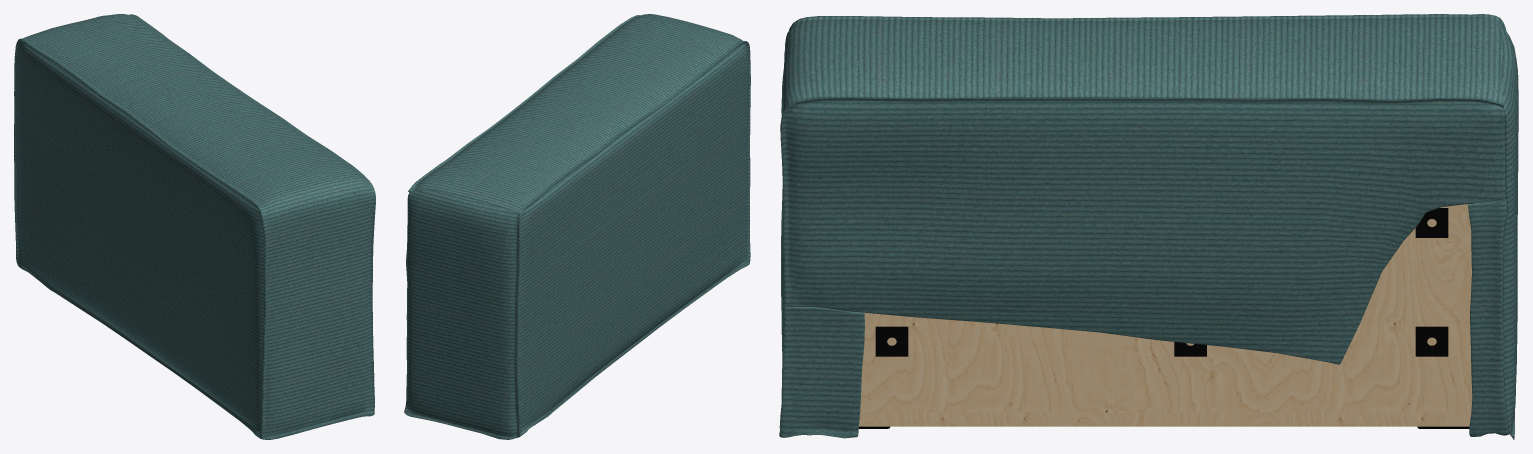
Rendered from kivik-armrest.glb.
3 renders of one model, left to right at view 1: azimuth 30°, elevation 25°; view 2: azimuth 150°, elevation 25°; view 3: azimuth 270°, elevation 25°, orthographic. The views are drawn at different scales.
Parts seen in each view (by area): view 1: fabric; view 2: fabric; view 3: fabric, wood, metal.
Part boxes in pixels (x1,y1,x2,y2): fabric: (14,14,375,439); fabric: (404,14,750,439); fabric: (779,14,1518,439); wood: (859,204,1472,426); metal: (875,208,1448,356).
Bounding box in the file's own units: 0.2543 × 0.5038 × 0.9037.
3 materials, 2 textured.
